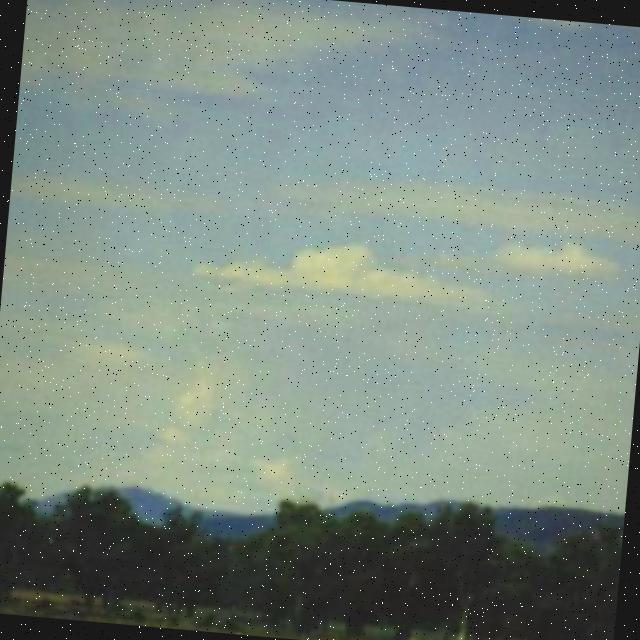Cs: (1, 1, 640, 467)
